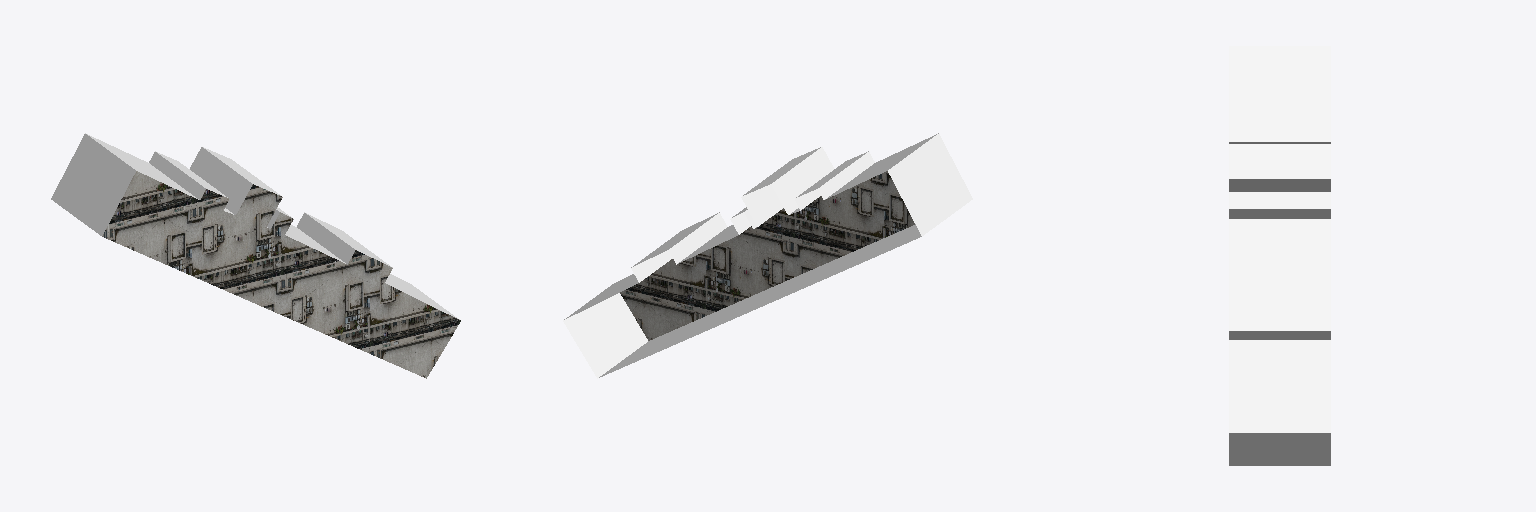
3 renders of one model, left to right at view 1: azimuth 30°, elevation 25°; view 2: azimuth 150°, elevation 25°; view 3: azimuth 270°, elevation 25°, orthographic.
Parts seen in each view (by area): view 1: Building; view 2: Building; view 3: Building.
Boxes of the visible parts, x1,y1,x2,y2 form: Building: [51, 133, 460, 378]; Building: [563, 133, 972, 378]; Building: [1229, 46, 1330, 465].
Bounding box in the file's own units: 60.6 × 44.94 × 15.
Materials: 2 (1 with a texture image).